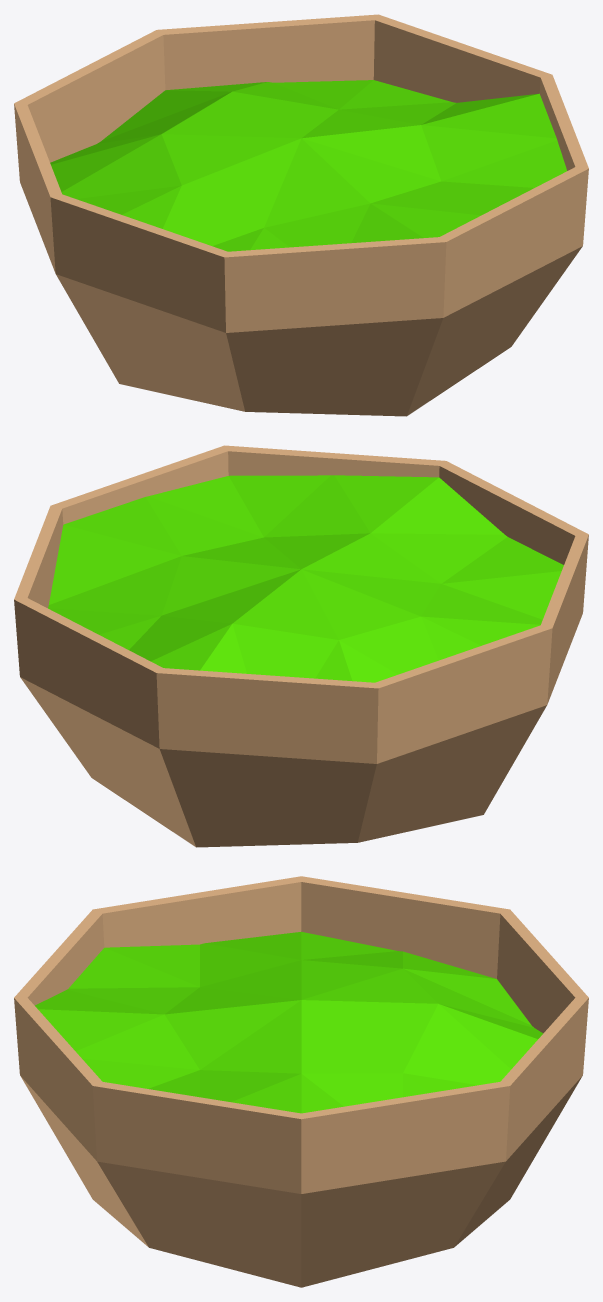
Rendered from Salad.glb.
The picture shows the model from 3 angles, top to bottom: view 1: azimuth 30°, elevation 25°; view 2: azimuth 150°, elevation 25°; view 3: azimuth 270°, elevation 25°; orthographic projection.
Parts seen in each view (by area): view 1: Cube, Plane; view 2: Cube, Plane; view 3: Cube, Plane.
Boxes of the visible parts, x1=… form: Cube: x1=14, y1=14, x2=588, y2=416; Plane: x1=50, y1=80, x2=566, y2=251; Cube: x1=14, y1=445, x2=588, y2=847; Plane: x1=48, y1=475, x2=563, y2=682; Cube: x1=14, y1=876, x2=588, y2=1287; Plane: x1=35, y1=931, x2=543, y2=1113.
Size of the model in its own units: 0.2519 by 0.1045 by 0.2519.
